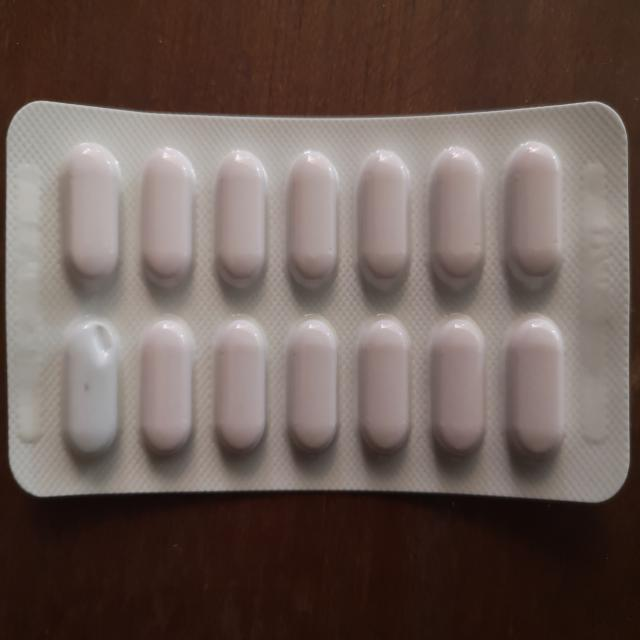Empty: (53, 310, 129, 470)
Pill: (501, 136, 574, 296), (425, 304, 495, 466), (59, 134, 131, 290), (502, 306, 572, 466), (421, 137, 490, 296), (352, 140, 417, 298), (281, 305, 348, 456), (134, 309, 200, 458), (284, 142, 347, 298), (139, 142, 200, 296), (209, 145, 270, 297), (211, 309, 272, 457), (357, 312, 416, 458)
